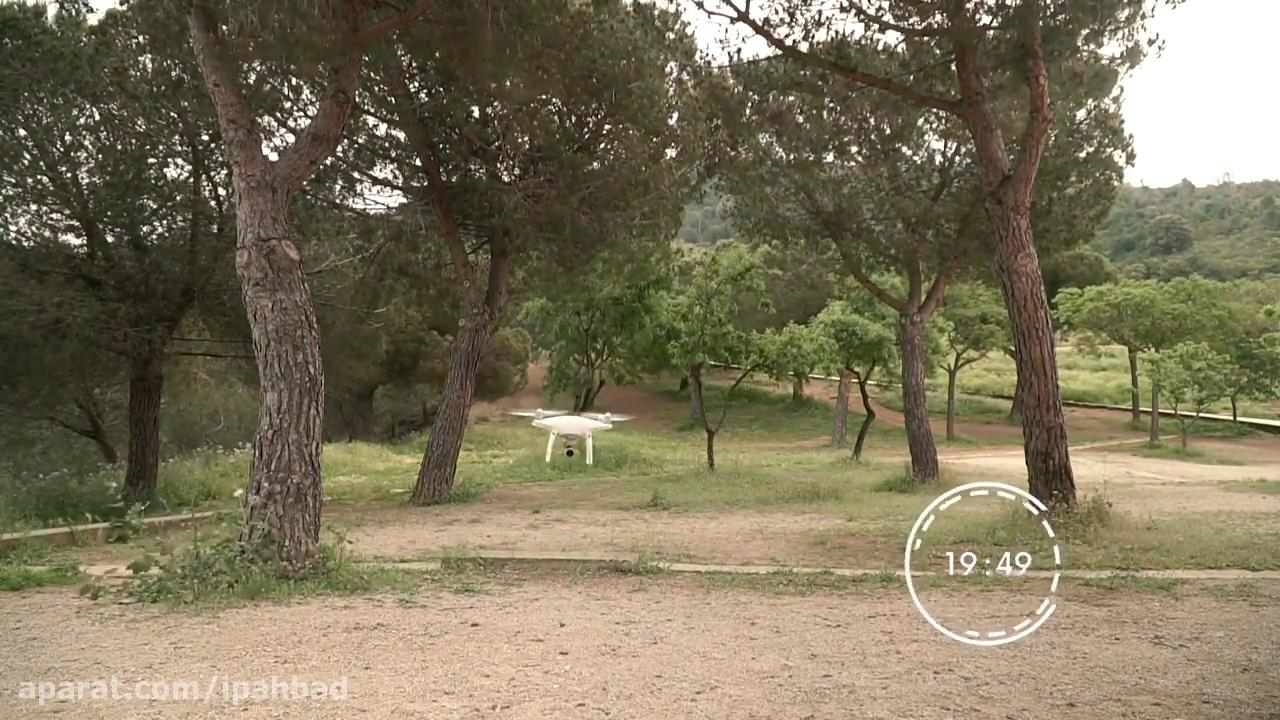drone: (504, 402, 639, 468)
